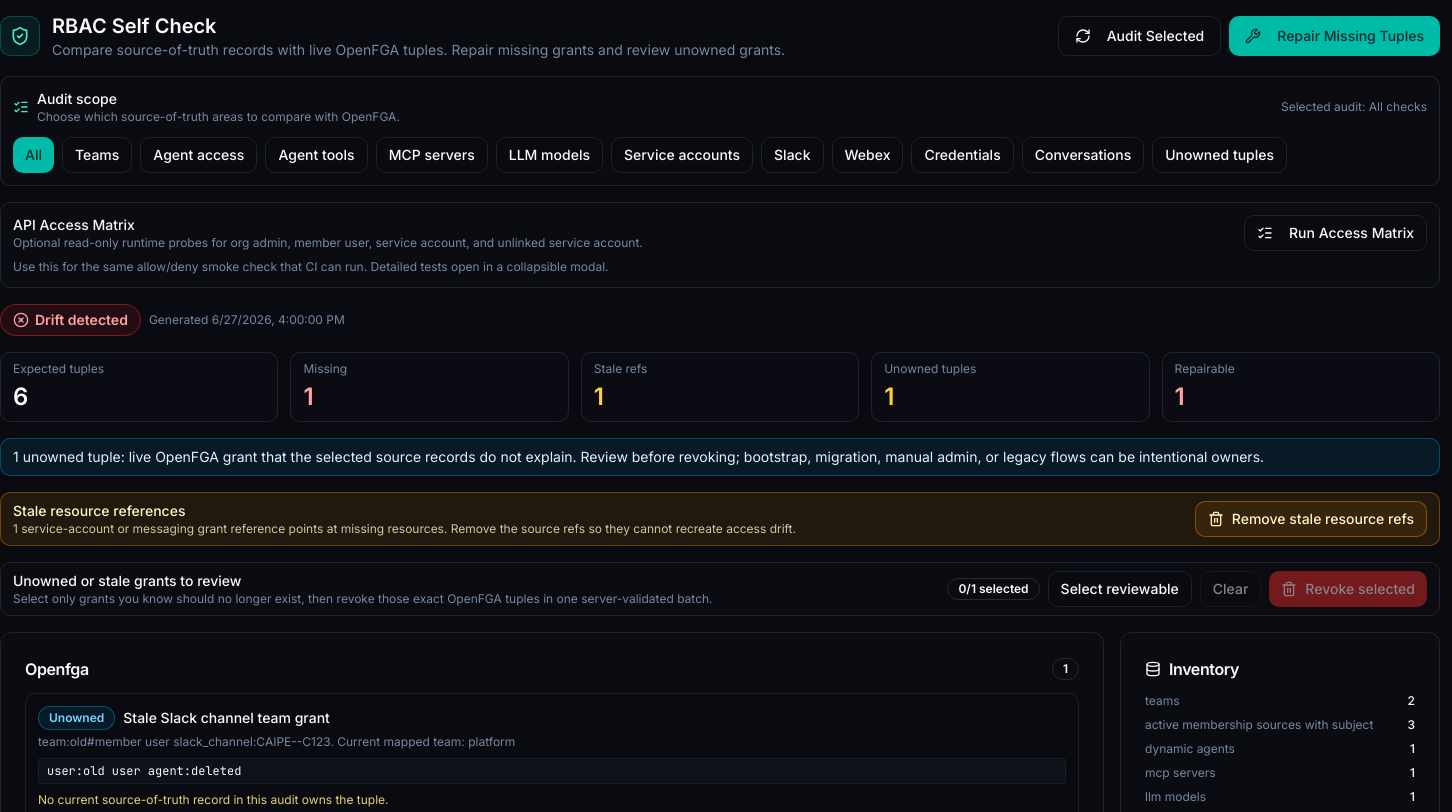
Test: repairs missing tuples and refreshes the report
Check: the text "Drift detected" is shown, box top-left (0, 304), bottom-right (141, 336)
Click the button "Repair Missing Tuples": point(1335, 36) top-left (1229, 16), bottom-right (1440, 56)
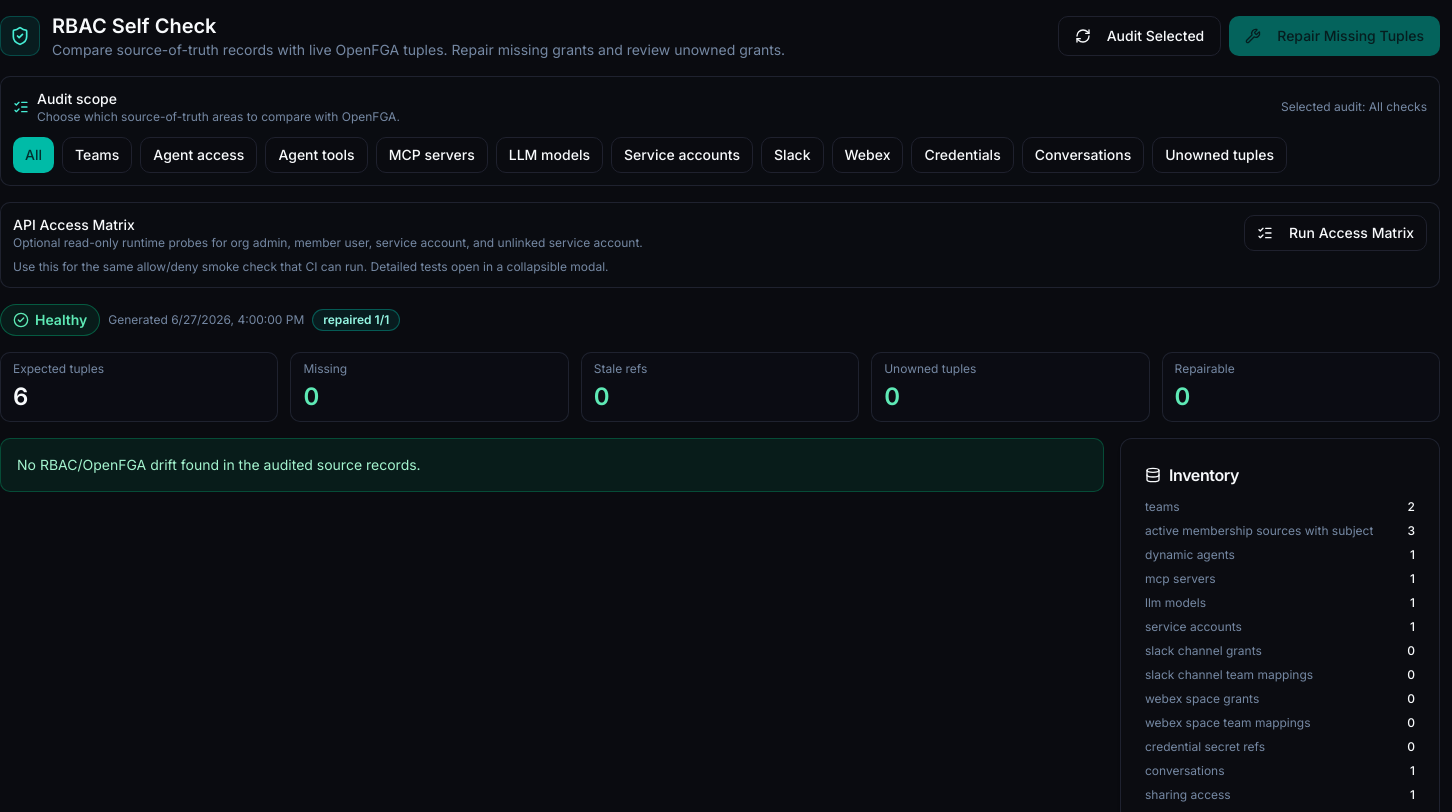
Check: the text "Healthy" is shown, box top-left (0, 304), bottom-right (100, 336)
Check: the text "repaired 1/1" is shown, box top-left (312, 309), bottom-right (400, 331)
Check: the text "No RBAC/OpenFGA drift found in the audited source records." is shown, box top-left (0, 438), bottom-right (1104, 492)
